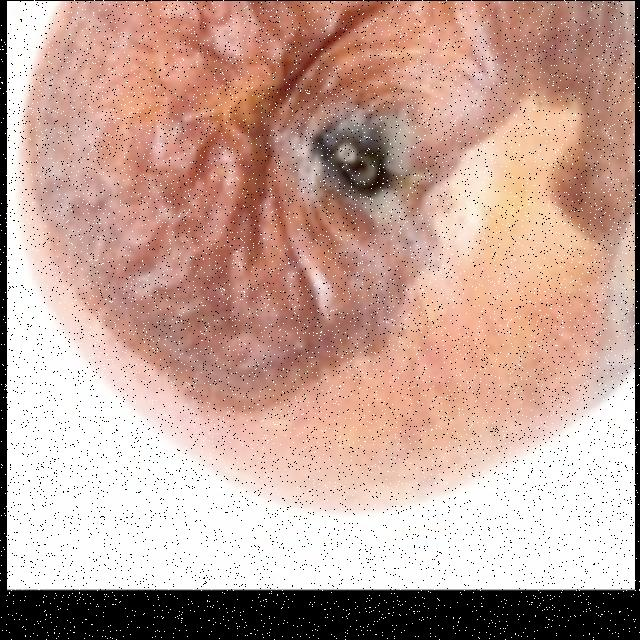Apel Tidak Segar: (30, 0, 634, 560)
